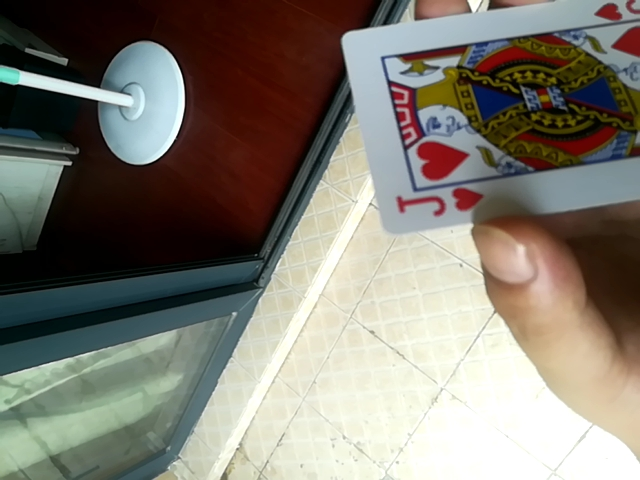hx j: (339, 0, 637, 238)
